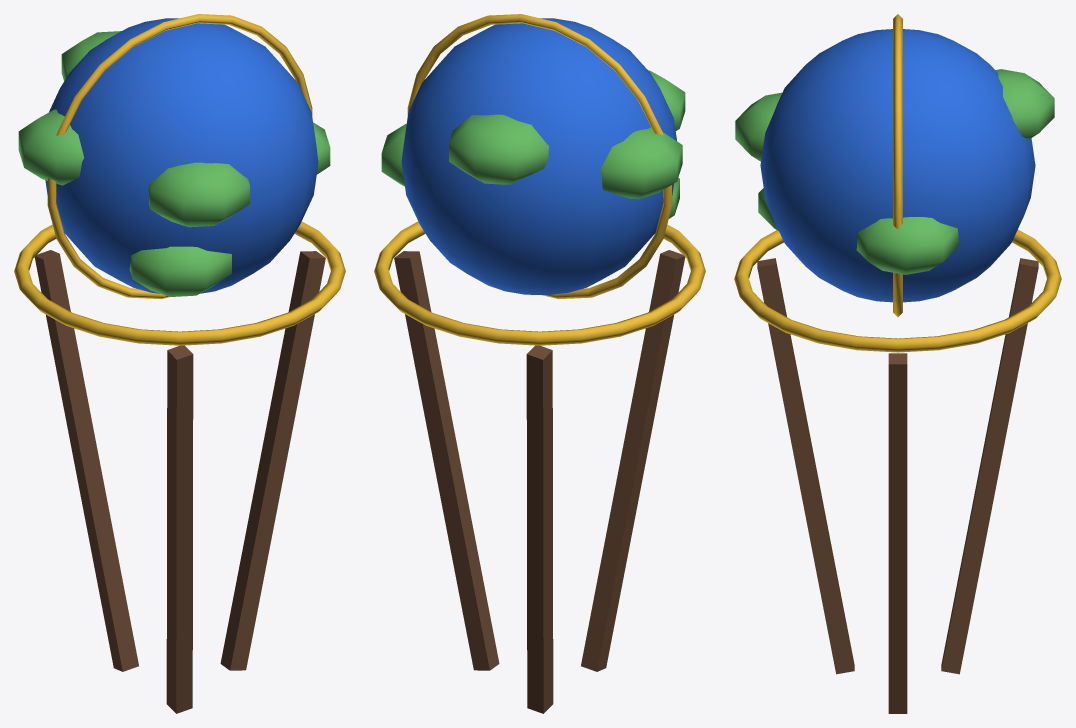
File: Globe.fbx
3 views of the same model, side by side, from view 1: azimuth 30°, elevation 25°; view 2: azimuth 150°, elevation 25°; view 3: azimuth 270°, elevation 25° (orthographic).
Visible parts, largest first — view 1: GlobeBody; view 2: GlobeBody; view 3: GlobeBody.
Part boxes in pixels (x1,y1,x2,y2): GlobeBody: (14, 14, 345, 713); GlobeBody: (374, 14, 705, 713); GlobeBody: (734, 14, 1061, 713).
Bounding box in the file's own units: 0.5386 × 1.16 × 0.524.
